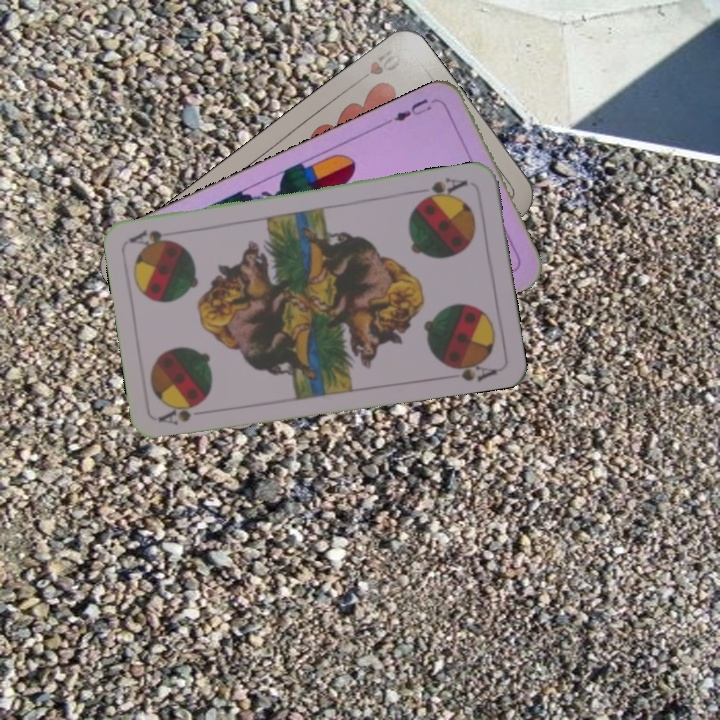EU: (383, 94, 435, 126)
H10: (365, 51, 404, 78)
SA: (155, 399, 214, 428), (415, 173, 470, 204)
